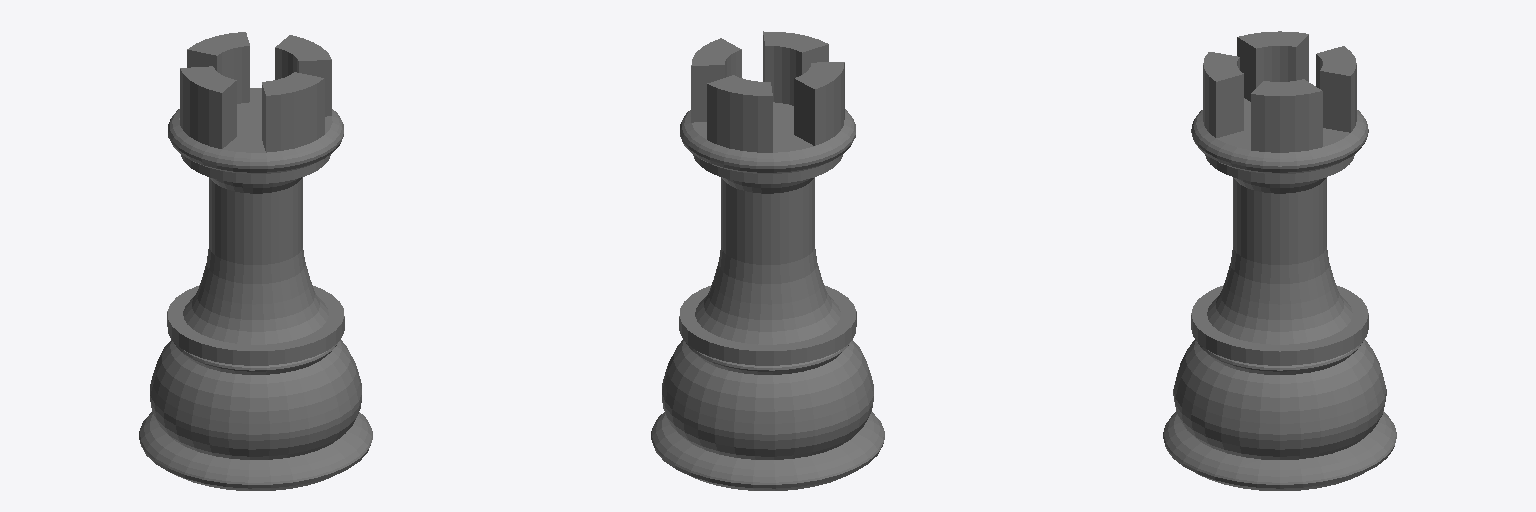
The model's file is tower.obj.
The picture shows the model from 3 angles: view 1: azimuth 30°, elevation 25°; view 2: azimuth 150°, elevation 25°; view 3: azimuth 270°, elevation 25°; orthographic projection.
Visible parts, largest first — view 1: wieża_1_Circle.005; view 2: wieża_1_Circle.005; view 3: wieża_1_Circle.005.
Boxes of the visible parts, box(x1,y1,x2,y2) form: wieża_1_Circle.005: box(139, 32, 372, 490); wieża_1_Circle.005: box(651, 31, 884, 490); wieża_1_Circle.005: box(1163, 31, 1396, 490).
Bounding box in the file's own units: 0.0865 × 0.1563 × 0.0865.